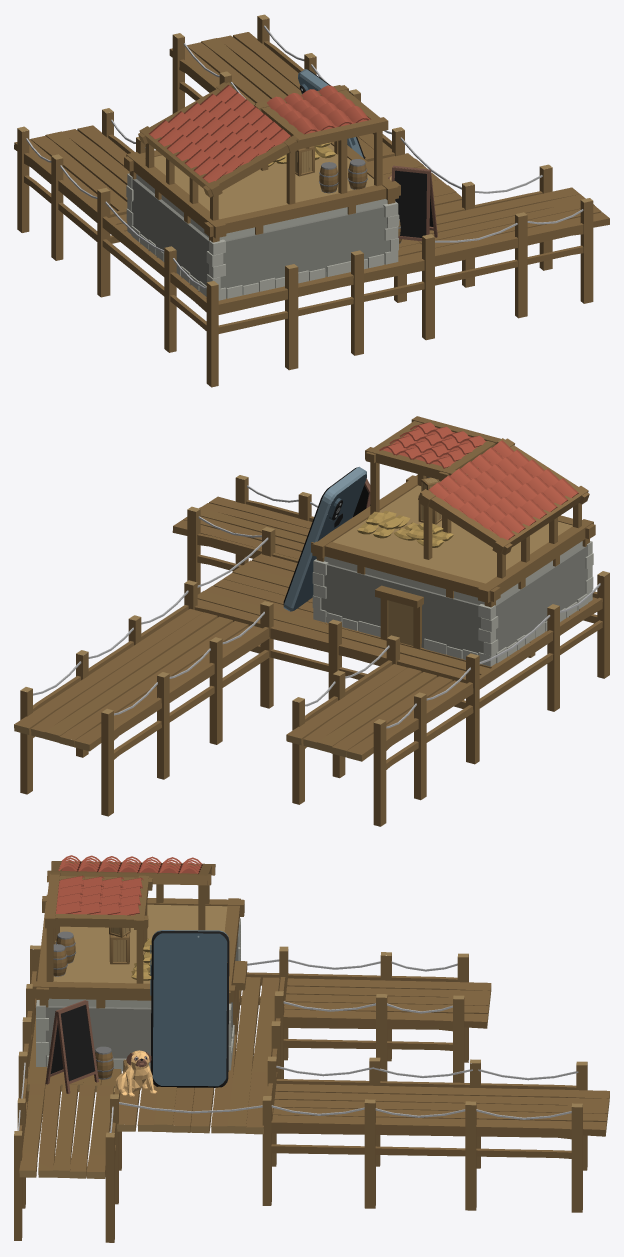
File: dock.glb
3 views of the same model, one above another, from view 1: azimuth 30°, elevation 25°; view 2: azimuth 150°, elevation 25°; view 3: azimuth 270°, elevation 25° (orthographic). The views are drawn at different scales.
Visible parts, largest first — view 1: Port_SecondAge_Level2, Node, group817659832; view 2: Port_SecondAge_Level2, group817659832; view 3: Port_SecondAge_Level2, group817659832, Node.
Part boxes in pixels (x1,y1,x2,y2): Port_SecondAge_Level2: (14,14,609,387); Node: (391,165,437,241); group817659832: (298,69,365,159); Port_SecondAge_Level2: (14,416,609,826); group817659832: (283,466,366,611); Port_SecondAge_Level2: (14,855,609,1242); group817659832: (150,930,229,1087); Node: (45,1000,98,1093).
Size of the model in its own units: 4.54 by 2.45 by 5.67.
